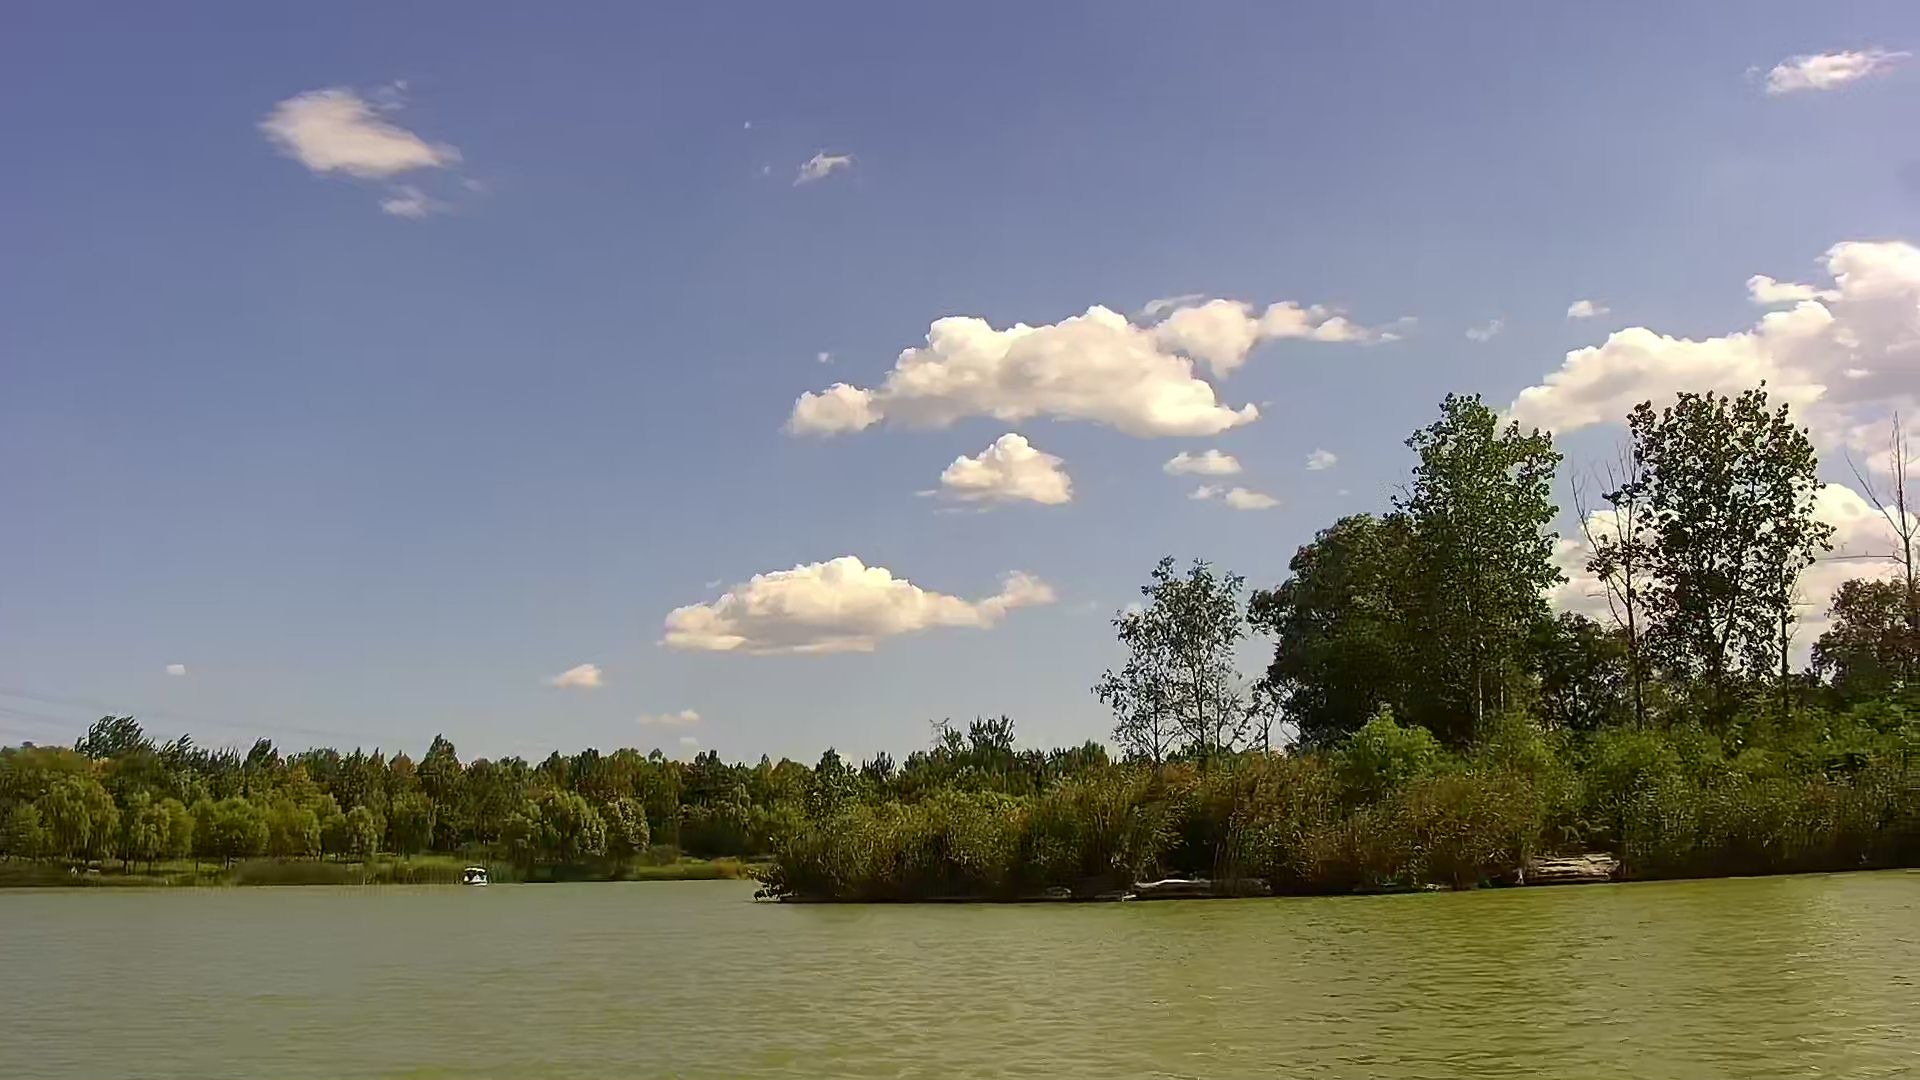boat: (463, 866, 491, 887)
